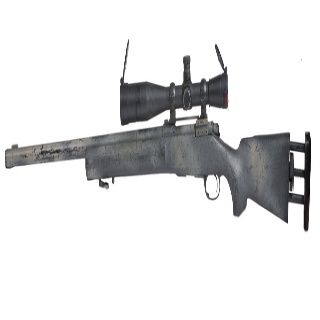rifle: (2, 39, 313, 235)
